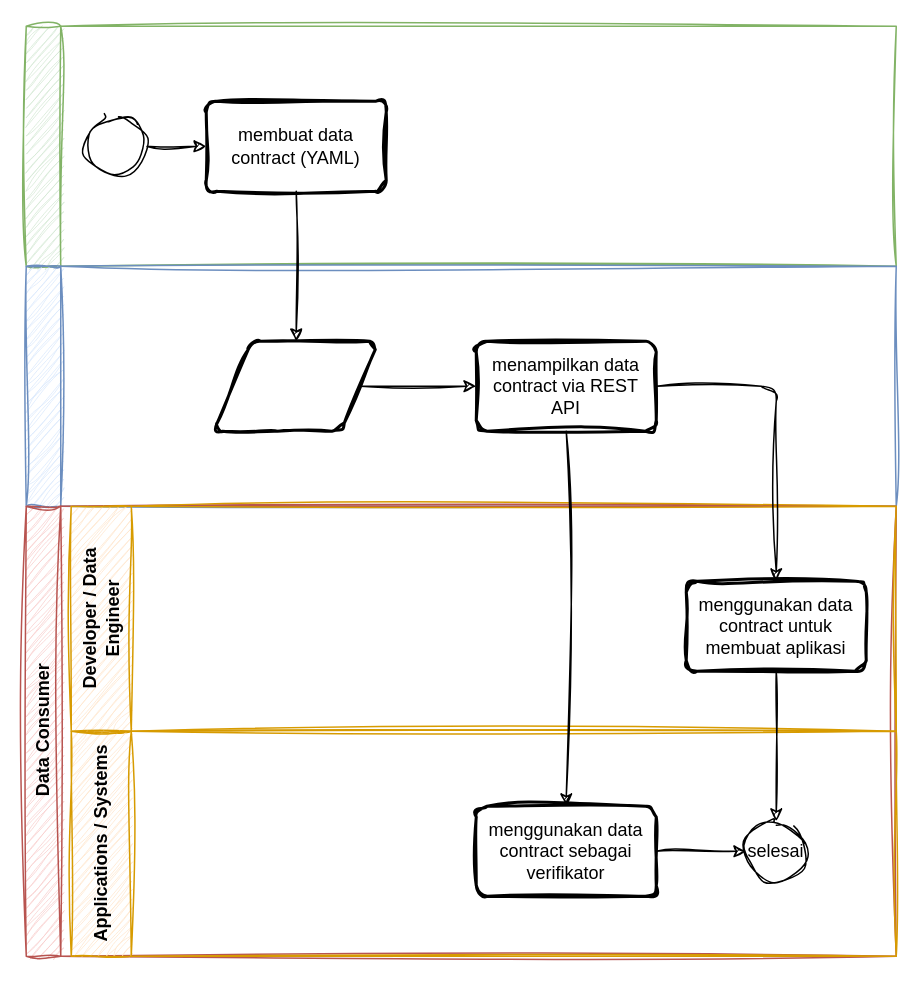
This 923x983 diagram has some shape labels left out. The shapes that lost their labels are listed below. From the top down, each one's box as (x1, y1, x2, y2) in pixels, then its label:
(85, 115, 146, 176): mulai
(25, 25, 896, 266): Data Producer
(212, 339, 380, 432): menyimpan data contract
(25, 265, 896, 506): Data Contract Repository
